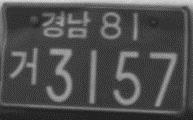1: (83, 49, 101, 105), (128, 12, 144, 40)
3: (44, 47, 74, 102)
5: (113, 51, 141, 105)
7: (147, 51, 177, 107)
8: (100, 12, 121, 39)
거: (9, 46, 39, 85)
경남_O: (40, 9, 91, 39)
